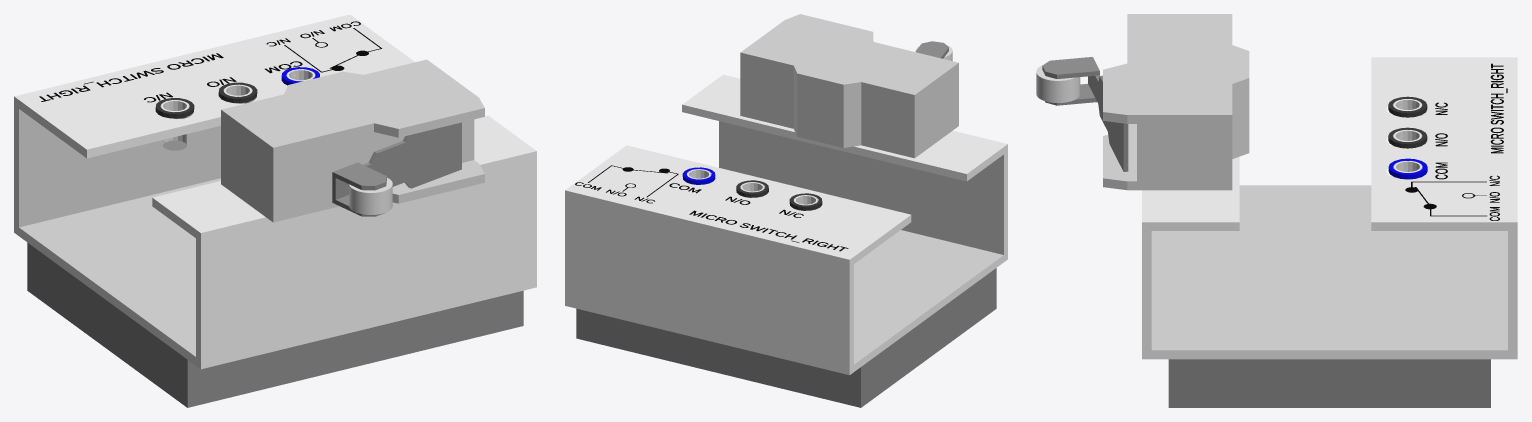
Rendered from limit-switch-right.glb.
3 views of the same model, side by side, from view 1: azimuth 30°, elevation 25°; view 2: azimuth 150°, elevation 25°; view 3: azimuth 270°, elevation 25° (orthographic). The views are drawn at different scales.
Parts seen in each view (by area): view 1: Micro-Right-Switch-Unit_OP__go1114__mesh5, Micro-Right-Switch-Unit_OP__go1114__mesh3, Micro-Right-Switch-Unit_OP__go1114__mesh0, Switch-Frame__go1136__mesh0, Micro-Right-Switch-Unit_OP__go1114__mesh2, Micro-Right-Switch-Unit_OP__go1114__mesh4, Switch-Wheel__go1135__mesh0, Micro-Right-Switch-Unit_OP__go1114__mesh1; view 2: Micro-Right-Switch-Unit_OP__go1114__mesh5, Micro-Right-Switch-Unit_OP__go1114__mesh3, Micro-Right-Switch-Unit_OP__go1114__mesh0, Micro-Right-Switch-Unit_OP__go1114__mesh4, Micro-Right-Switch-Unit_OP__go1114__mesh2, Micro-Right-Switch-Unit_OP__go1114__mesh1, Switch-Frame__go1136__mesh0; view 3: Micro-Right-Switch-Unit_OP__go1114__mesh5, Micro-Right-Switch-Unit_OP__go1114__mesh3, Micro-Right-Switch-Unit_OP__go1114__mesh0, Switch-Frame__go1136__mesh0, Micro-Right-Switch-Unit_OP__go1114__mesh4, Micro-Right-Switch-Unit_OP__go1114__mesh2, Switch-Wheel__go1135__mesh0, Micro-Right-Switch-Unit_OP__go1114__mesh1.
Boxes of the visible parts, box(x1,y1,x2,y2) form: Micro-Right-Switch-Unit_OP__go1114__mesh5: box(14, 14, 536, 369); Micro-Right-Switch-Unit_OP__go1114__mesh3: box(221, 59, 484, 222); Micro-Right-Switch-Unit_OP__go1114__mesh0: box(27, 242, 523, 407); Switch-Frame__go1136__mesh0: box(332, 122, 461, 216); Micro-Right-Switch-Unit_OP__go1114__mesh2: box(155, 82, 257, 150); Micro-Right-Switch-Unit_OP__go1114__mesh4: box(39, 21, 381, 102); Switch-Wheel__go1135__mesh0: box(349, 177, 392, 214); Micro-Right-Switch-Unit_OP__go1114__mesh1: box(281, 67, 319, 85); Micro-Right-Switch-Unit_OP__go1114__mesh5: box(565, 74, 1007, 375); Micro-Right-Switch-Unit_OP__go1114__mesh3: box(740, 14, 958, 158); Micro-Right-Switch-Unit_OP__go1114__mesh0: box(576, 268, 996, 407); Micro-Right-Switch-Unit_OP__go1114__mesh4: box(575, 165, 848, 251); Micro-Right-Switch-Unit_OP__go1114__mesh2: box(736, 180, 822, 210); Micro-Right-Switch-Unit_OP__go1114__mesh1: box(682, 167, 715, 184); Switch-Frame__go1136__mesh0: box(915, 41, 948, 58); Micro-Right-Switch-Unit_OP__go1114__mesh5: box(1142, 57, 1517, 359); Micro-Right-Switch-Unit_OP__go1114__mesh3: box(1103, 14, 1249, 190); Micro-Right-Switch-Unit_OP__go1114__mesh0: box(1168, 359, 1490, 407); Switch-Frame__go1136__mesh0: box(1042, 57, 1128, 171); Micro-Right-Switch-Unit_OP__go1114__mesh4: box(1405, 63, 1507, 220); Micro-Right-Switch-Unit_OP__go1114__mesh2: box(1388, 96, 1427, 148); Switch-Wheel__go1135__mesh0: box(1036, 65, 1080, 102); Micro-Right-Switch-Unit_OP__go1114__mesh1: box(1388, 158, 1427, 179).
Size of the model in its own units: 0.08 by 0.059 by 0.0986.
Materials: 8 (4 with a texture image).
